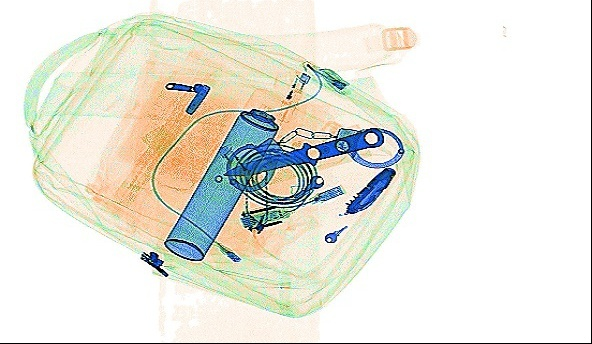handcuffs: (223, 123, 405, 192)
knife: (220, 126, 382, 175), (343, 165, 395, 214)
lighter: (271, 70, 310, 122), (216, 143, 258, 187)
pressure: (162, 87, 290, 262)
